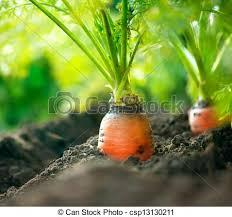Organic: (1, 4, 232, 204)
